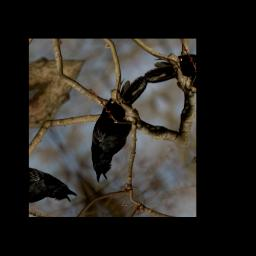Crow: (58, 72, 181, 187)
